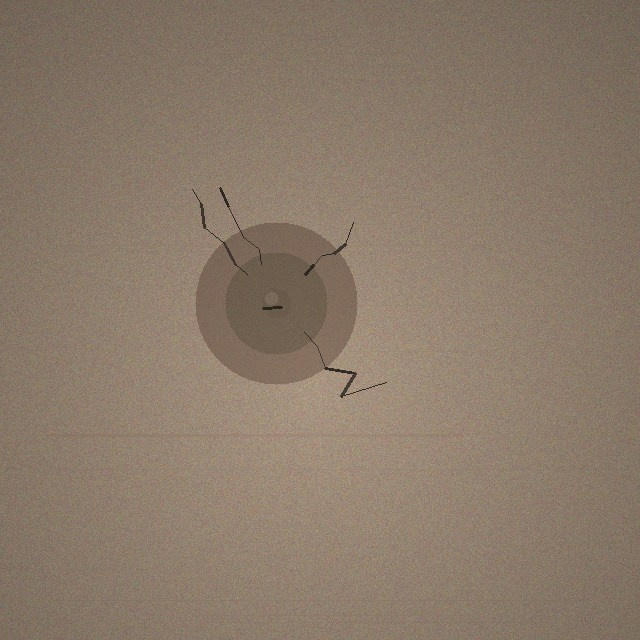crack: (195, 222, 357, 384)
